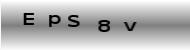8: (97, 18, 111, 33)
E: (22, 12, 35, 27)
S: (67, 15, 81, 28)
p: (47, 14, 61, 29)
v: (123, 21, 138, 32)
